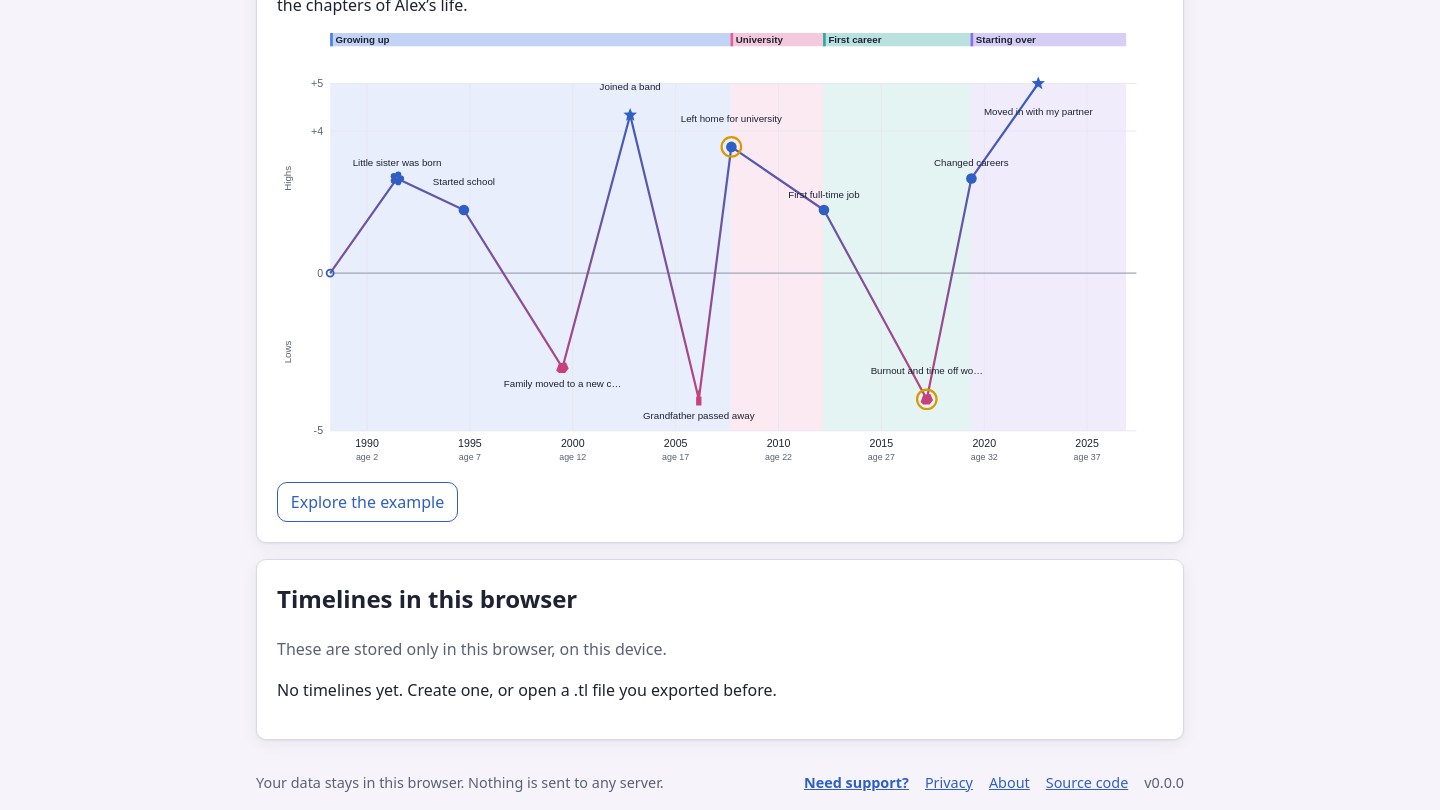
Test case: example timeline › leads to creating your own timeline
This screenshot has width=1440, height=810.
(page scrolled)
What coordinates should you click on to do the following:
click the button "Explore the example"
I would click on:
 (368, 502)
Its box is [277,482,458,522].
(page scrolled)
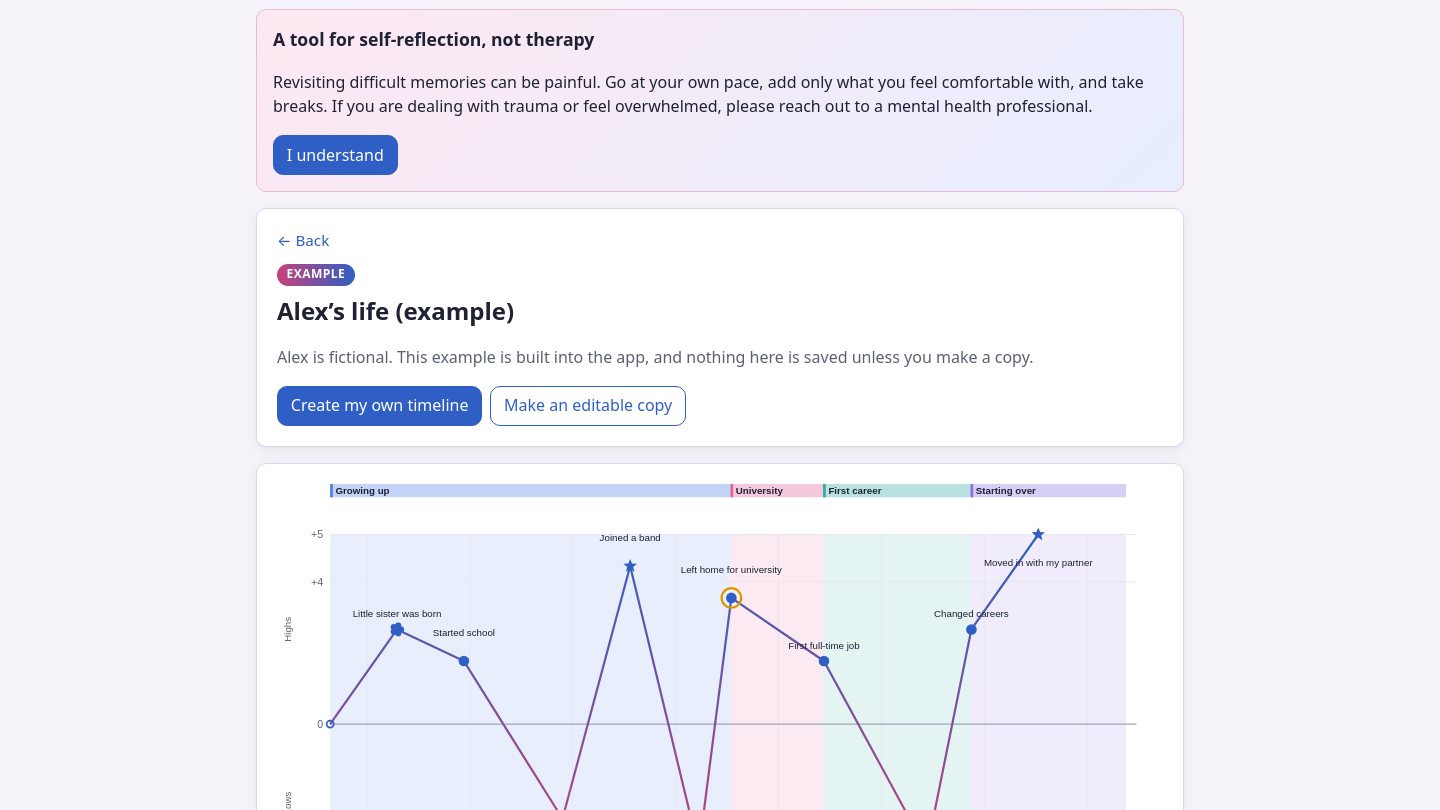
What coordinates should you click on to do the following:
click the button "Create my own timeline"
I would click on:
 (380, 406)
Its box is [277,386,482,426].
(page scrolled)
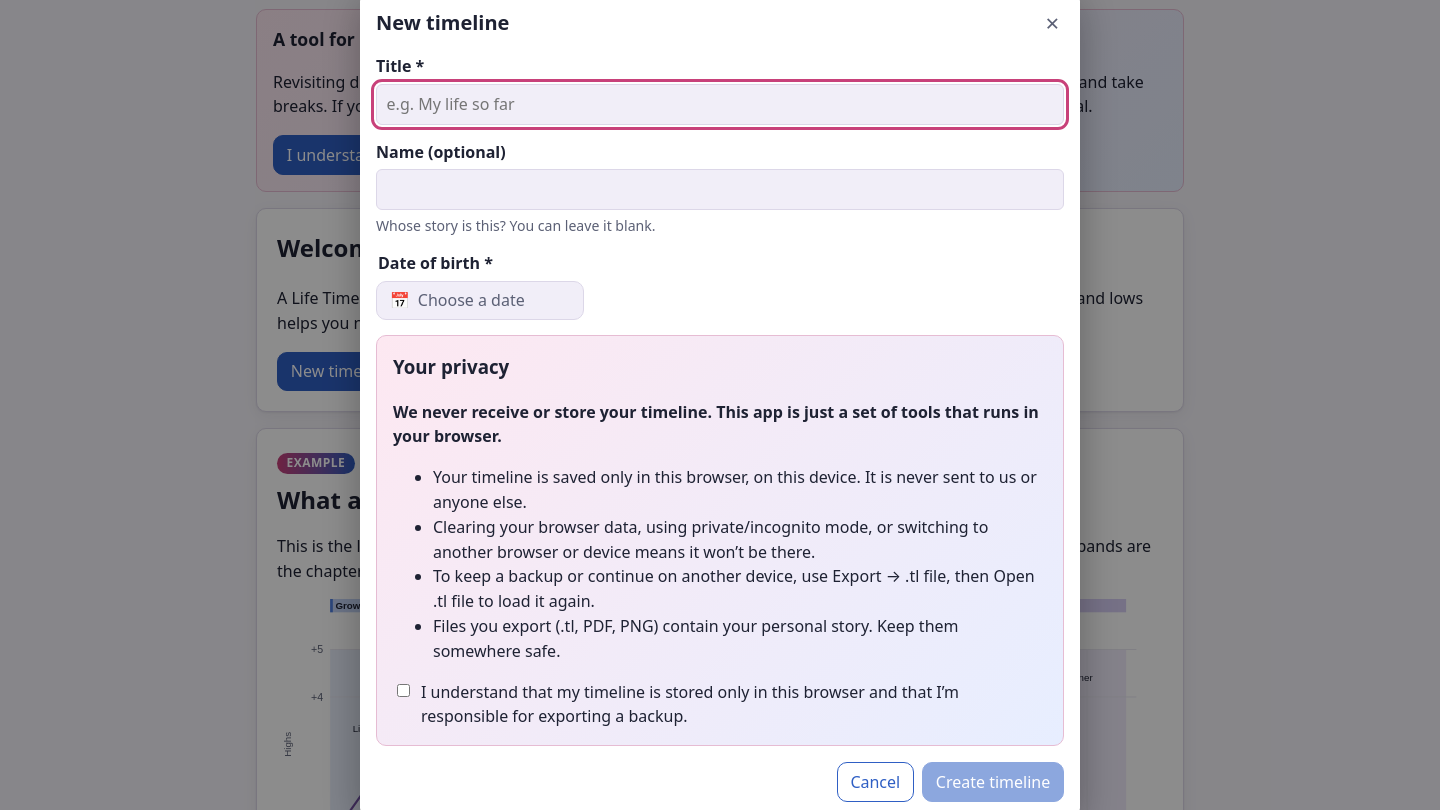
Check: the dialog "New timeline" is shown, box [360,0,1080,809]
